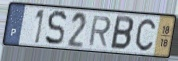1: (33, 9, 46, 45)
2: (66, 11, 89, 49)
B: (109, 14, 135, 51)
C: (135, 18, 157, 53)
R: (87, 15, 113, 48)
S: (44, 9, 68, 47)
